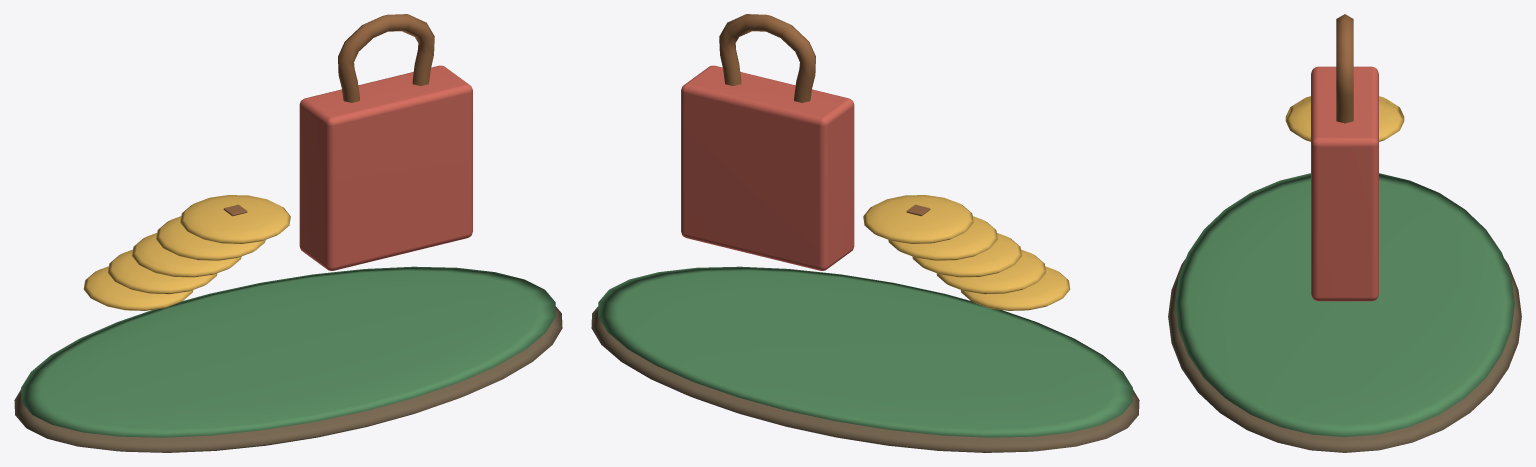
File: buying-things.glb
3 views of the same model, side by side, from view 1: azimuth 30°, elevation 25°; view 2: azimuth 150°, elevation 25°; view 3: azimuth 270°, elevation 25° (orthographic). The views are drawn at different scales.
Visible parts, largest first — view 1: buying-things_surface_01, buying-things_surface_04, buying-things_surface_02, buying-things_surface_00, buying-things_surface_03; view 2: buying-things_surface_01, buying-things_surface_04, buying-things_surface_02, buying-things_surface_00, buying-things_surface_03; view 3: buying-things_surface_01, buying-things_surface_04, buying-things_surface_00, buying-things_surface_03, buying-things_surface_02.
Part boxes in pixels (box(x1,y1,x2,y2)): buying-things_surface_01: box(21, 266, 555, 437); buying-things_surface_04: box(299, 65, 472, 270); buying-things_surface_02: box(83, 195, 290, 310); buying-things_surface_00: box(14, 306, 562, 452); buying-things_surface_03: box(223, 14, 434, 216); buying-things_surface_01: box(598, 266, 1132, 437); buying-things_surface_04: box(681, 65, 854, 270); buying-things_surface_02: box(863, 195, 1070, 310); buying-things_surface_00: box(591, 306, 1139, 452); buying-things_surface_03: box(719, 14, 930, 216); buying-things_surface_01: box(1175, 173, 1514, 436); buying-things_surface_04: box(1311, 66, 1378, 301); buying-things_surface_00: box(1168, 258, 1521, 452); buying-things_surface_03: box(1336, 14, 1353, 123); buying-things_surface_02: box(1285, 96, 1404, 141).
Size of the model in its own units: 4.56 by 2.83 by 2.5.
